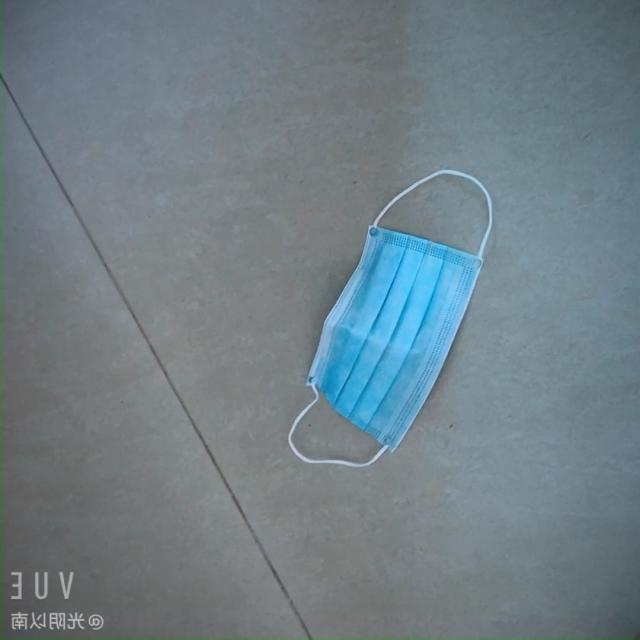face mask: (313, 216, 491, 454)
